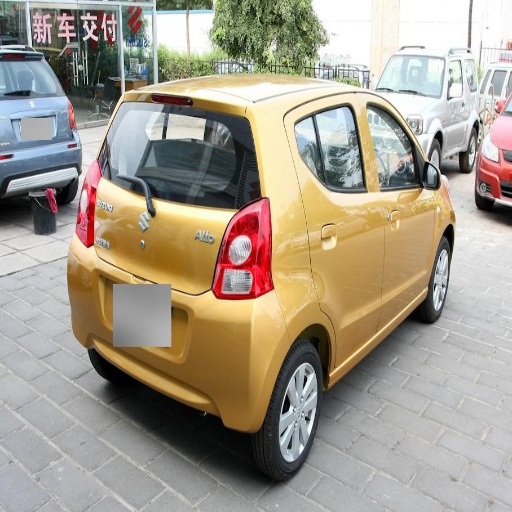back_bumper: (202, 293, 288, 429)
back_right_door: (292, 95, 387, 362)
tailgate: (2, 96, 56, 145)
trunk: (93, 181, 257, 426)
